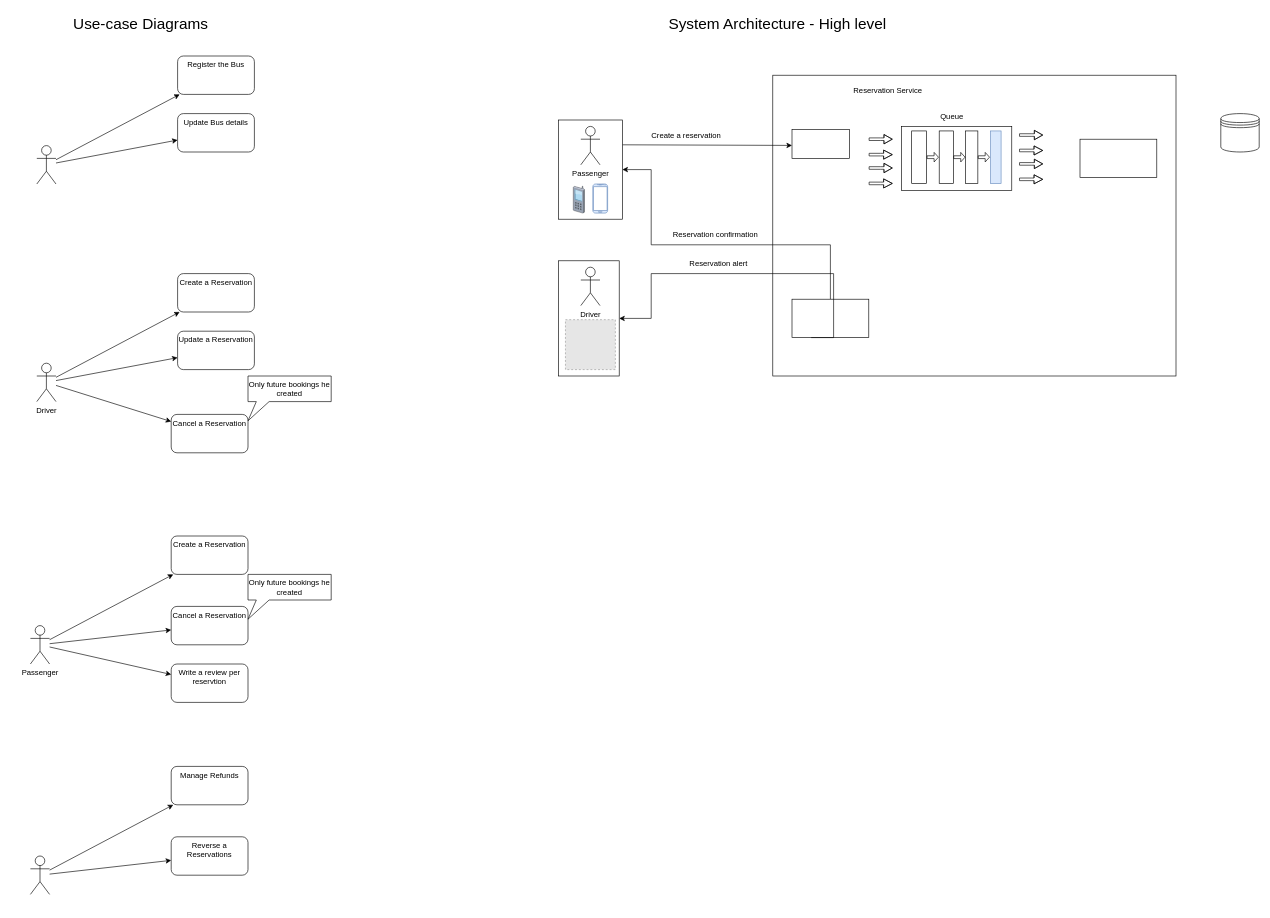
Image size: 1270x918. Some labels were removed from this diagram. Grey dashed boxes stand in for pictures. Each missing label, with the box of its shape:
BookingService: (791, 129, 850, 158)
Bus owner: (36, 145, 56, 184)
Create the booking: (1079, 139, 1157, 178)
Database: (1220, 113, 1259, 152)
Messaging Service (SMS/Email/Notification): (791, 299, 869, 338)
System Operator: (30, 855, 50, 894)
